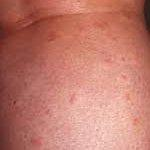Ants: (31, 134, 43, 146)
